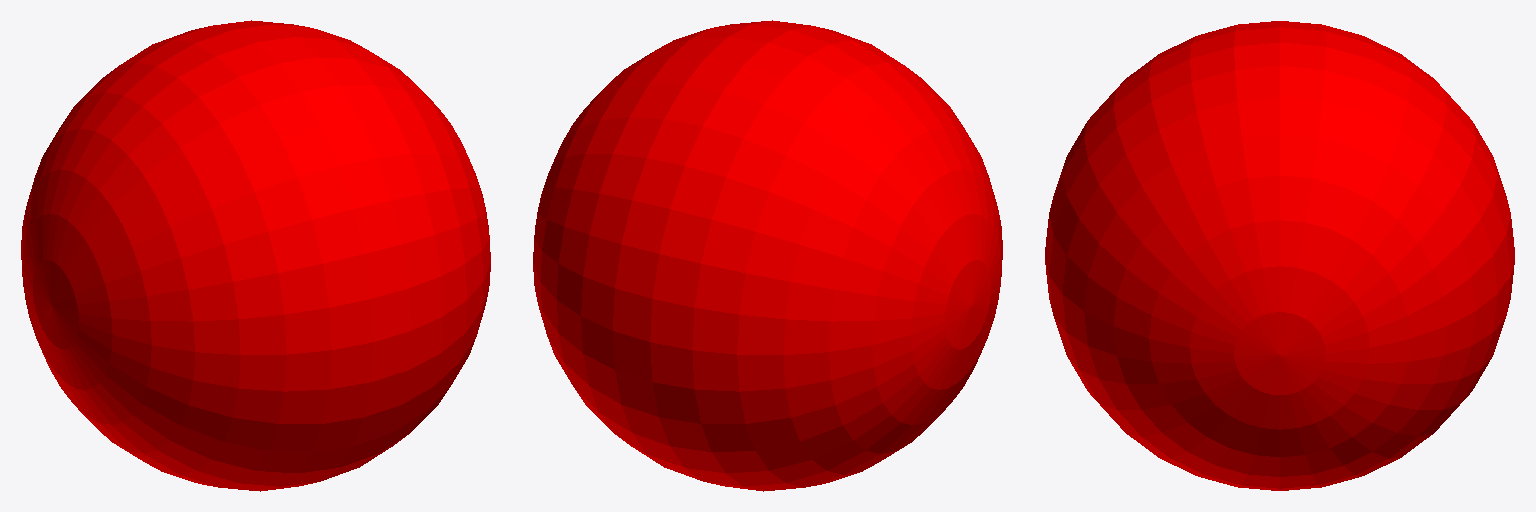
URDF robot description (panda):
<?xml version="1.0" ?>
<!-- =================================================================================== -->
<!-- |    This document was autogenerated by xacro from panda.urdf.xacro               | -->
<!-- |    EDITING THIS FILE BY HAND IS NOT RECOMMENDED                                 | -->
<!-- =================================================================================== -->
<robot name="panda">
  <!-- sub-link defining detailed ../meshes/panda for collision with environment -->
  <link name="panda_link0">
    <visual>
      <geometry>
        <mesh filename="../meshes/panda/link0.dae"/>
      </geometry>
    </visual>
  </link>
  <link name="panda_link1">
    <visual>
      <geometry>
        <mesh filename="../meshes/panda/link1.dae"/>
      </geometry>
    </visual>
  </link>
  <!-- sub-link defining coarse geometries of real robot's internal self-collision -->
  <!-- fixed joint between both sub-links -->
  <joint name="panda_joint1" type="revolute">
    <origin rpy="0 0 0" xyz="0 0 0.333"/>
    <parent link="panda_link0"/>
    <child link="panda_link1"/>
    <axis xyz="0 0 1"/>
    <limit effort="87.0" lower="-2.8973" upper="2.8973" velocity="2.175"/>
    <safety_controller k_position="100.0" k_velocity="40.0" soft_lower_limit="-2.8973" soft_upper_limit="2.8973"/>
  </joint>
  <!-- sub-link defining detailed ../meshes/panda for collision with environment -->
  <link name="panda_link2">
    <visual>
      <geometry>
        <mesh filename="../meshes/panda/link2.dae"/>
      </geometry>
    </visual>
  </link>
  <!-- sub-link defining coarse geometries of real robot's internal self-collision -->
  <joint name="panda_joint2" type="revolute">
    <origin rpy="-1.5707963267948966 0 0" xyz="0 0 0"/>
    <parent link="panda_link1"/>
    <child link="panda_link2"/>
    <axis xyz="0 0 1"/>
    <limit effort="87.0" lower="-1.7628" upper="1.7628" velocity="2.175"/>
    <safety_controller k_position="100.0" k_velocity="40.0" soft_lower_limit="-1.7628" soft_upper_limit="1.7628"/>
  </joint>
  <!-- sub-link defining detailed ../meshes/panda for collision with environment -->
  <link name="panda_link3">
    <visual>
      <geometry>
        <mesh filename="../meshes/panda/link3.dae"/>
      </geometry>
    </visual>
  </link>
  <!-- sub-link defining coarse geometries of real robot's internal self-collision -->
  <joint name="panda_joint3" type="revolute">
    <origin rpy="1.5707963267948966 0 0" xyz="0 -0.316 0"/>
    <parent link="panda_link2"/>
    <child link="panda_link3"/>
    <axis xyz="0 0 1"/>
    <limit effort="87.0" lower="-2.8973" upper="2.8973" velocity="2.175"/>
    <safety_controller k_position="100.0" k_velocity="40.0" soft_lower_limit="-2.8973" soft_upper_limit="2.8973"/>
  </joint>
  <!-- sub-link defining detailed ../meshes/panda for collision with environment -->
  <link name="panda_link4">
    <visual>
      <geometry>
        <mesh filename="../meshes/panda/link4.dae"/>
      </geometry>
    </visual>
  </link>
  <!-- sub-link defining coarse geometries of real robot's internal self-collision -->
  <joint name="panda_joint4" type="revolute">
    <origin rpy="1.5707963267948966 0 0" xyz="0.0825 0 0"/>
    <parent link="panda_link3"/>
    <child link="panda_link4"/>
    <axis xyz="0 0 1"/>
    <limit effort="87.0" lower="-3.0718" upper="-0.0698" velocity="2.175"/>
    <safety_controller k_position="100.0" k_velocity="40.0" soft_lower_limit="-3.0718" soft_upper_limit="-0.0698"/>
  </joint>
  <!-- sub-link defining detailed ../meshes/panda for collision with environment -->
  <link name="panda_link5">
    <visual>
      <geometry>
        <mesh filename="../meshes/panda/link5.dae"/>
      </geometry>
    </visual>
  </link>
  <!-- sub-link defining coarse geometries of real robot's internal self-collision -->
  <joint name="panda_joint5" type="revolute">
    <origin rpy="-1.5707963267948966 0 0" xyz="-0.0825 0.384 0"/>
    <parent link="panda_link4"/>
    <child link="panda_link5"/>
    <axis xyz="0 0 1"/>
    <limit effort="12.0" lower="-2.8973" upper="2.8973" velocity="2.61"/>
    <safety_controller k_position="100.0" k_velocity="40.0" soft_lower_limit="-2.8973" soft_upper_limit="2.8973"/>
  </joint>
  <!-- sub-link defining detailed ../meshes/panda for collision with environment -->
  <link name="panda_link6">
    <visual>
      <geometry>
        <mesh filename="../meshes/panda/link6.dae"/>
      </geometry>
    </visual>
  </link>
  <!-- sub-link defining coarse geometries of real robot's internal self-collision -->
  <joint name="panda_joint6" type="revolute">
    <origin rpy="1.5707963267948966 0 0" xyz="0 0 0"/>
    <parent link="panda_link5"/>
    <child link="panda_link6"/>
    <axis xyz="0 0 1"/>
    <limit effort="12.0" lower="-0.0175" upper="3.7525" velocity="2.61"/>
    <safety_controller k_position="100.0" k_velocity="40.0" soft_lower_limit="-0.0175" soft_upper_limit="3.7525"/>
  </joint>
  <!-- sub-link defining detailed ../meshes/panda for collision with environment -->
  <link name="panda_link7">
    <visual>
      <geometry>
        <mesh filename="../meshes/panda/link7.dae"/>
      </geometry>
    </visual>
  </link>
  <!-- sub-link defining coarse geometries of real robot's internal self-collision -->
  <joint name="panda_joint7" type="revolute">
    <origin rpy="1.5707963267948966 0 0" xyz="0.088 0 0"/>
    <parent link="panda_link6"/>
    <child link="panda_link7"/>
    <axis xyz="0 0 1"/>
    <limit effort="12.0" lower="-2.8973" upper="2.8973" velocity="2.61"/>
    <safety_controller k_position="100.0" k_velocity="40.0" soft_lower_limit="-2.8973" soft_upper_limit="2.8973"/>
  </joint>
  <link name="panda_link8"/>
  <joint name="panda_joint8" type="fixed">
    <origin rpy="0 0 0" xyz="0 0 0.107"/>
    <parent link="panda_link7"/>
    <child link="panda_link8"/>
  </joint>
  <joint name="panda_hand_joint" type="fixed">
    <parent link="panda_link8"/>
    <child link="panda_hand"/>
    <origin rpy="0 0 -0.7853981633974483" xyz="0 0 0"/>
  </joint>
  <!-- sub-link defining detailed ../meshes/panda for collision with environment -->
  <link name="panda_hand">
    <visual>
      <geometry>
        <mesh filename="../meshes/panda/hand.dae"/>
      </geometry>
    </visual>
  </link>
  <link name="panda_hand_tcp"/>
  <joint name="panda_hand_tcp_joint" type="fixed">
    <origin rpy="0 0 0" xyz="0 0 0.1034"/>
    <parent link="panda_hand"/>
    <child link="panda_hand_tcp"/>
  </joint>
  <link name="ball_link">
    <visual>
      <material name="red">
        <color rgba="1 0 0 1"/>
      </material>

      <geometry>
        <sphere radius="0.005"/>
      </geometry>
    </visual>
  </link>

  <joint name="ball_joint" type="fixed">
    <origin rpy="0.0 0.0 0.0" xyz="7.773732033005863e-05 -4.214022515884392e-05 0.030128297908475325" />
    <parent link="panda_hand_tcp"/>
    <child link="ball_link"/>
  </joint>
  <link name="panda_leftfinger">
    <visual>
      <geometry>
        <mesh filename="../meshes/panda/finger.dae"/>
      </geometry>
    </visual>
  </link>
  <link name="panda_rightfinger">
    <visual>
      <origin rpy="0 0 3.141592653589793" xyz="0 0 0"/>
      <geometry>
        <mesh filename="../meshes/panda/finger.dae"/>
      </geometry>
    </visual>
  </link>

    <joint name="panda_finger_joint1" type="prismatic">
    <parent link="panda_hand" />
    <child link="panda_leftfinger" />
    <origin rpy="0 0 0" xyz="0 0 0.0584" />
    <axis xyz="0 1 0" />
    <limit effort="100" lower="0.0" upper="0.04" velocity="0.2" />
    <dynamics damping="0.3" />
  </joint>
  <joint name="panda_finger_joint2" type="prismatic">
    <parent link="panda_hand" />
    <child link="panda_rightfinger" />
    <origin rpy="0 0 0" xyz="0 0 0.0584" />
    <axis xyz="0 -1 0" />
    <limit effort="100" lower="0.0" upper="0.04" velocity="0.2" />
    <mimic joint="panda_finger_joint1" />
    <dynamics damping="0.3" />
  </joint>
</robot>

--- Facts derived from the render (not from the file) ---
The picture shows the robot from 3 angles, left to right: view 1: azimuth 30°, elevation 25°; view 2: azimuth 150°, elevation 25°; view 3: azimuth 270°, elevation 25°; orthographic projection.
Robot: panda — 14 links, 13 joints (7 revolute, 2 prismatic, 4 fixed); root link panda_link0; default pose: all joints at 0 but 1 set to mid-range because 0 is outside their limits (panda_joint4 = -1.57).
Visible links, largest first — view 1: ball_link; view 2: ball_link; view 3: ball_link.
Boxes of the visible links, <box> form: ball_link: <box>21,20,490,491</box>; ball_link: <box>533,20,1002,491</box>; ball_link: <box>1045,21,1514,490</box>.
Bounding box of the posed robot: 0.01 × 0.01 × 0.01 m (x, y, z).
0 mesh visuals loaded from 10 distinct referenced files (none loaded); not drawn: 11 (reference not matched to a file when rendering).